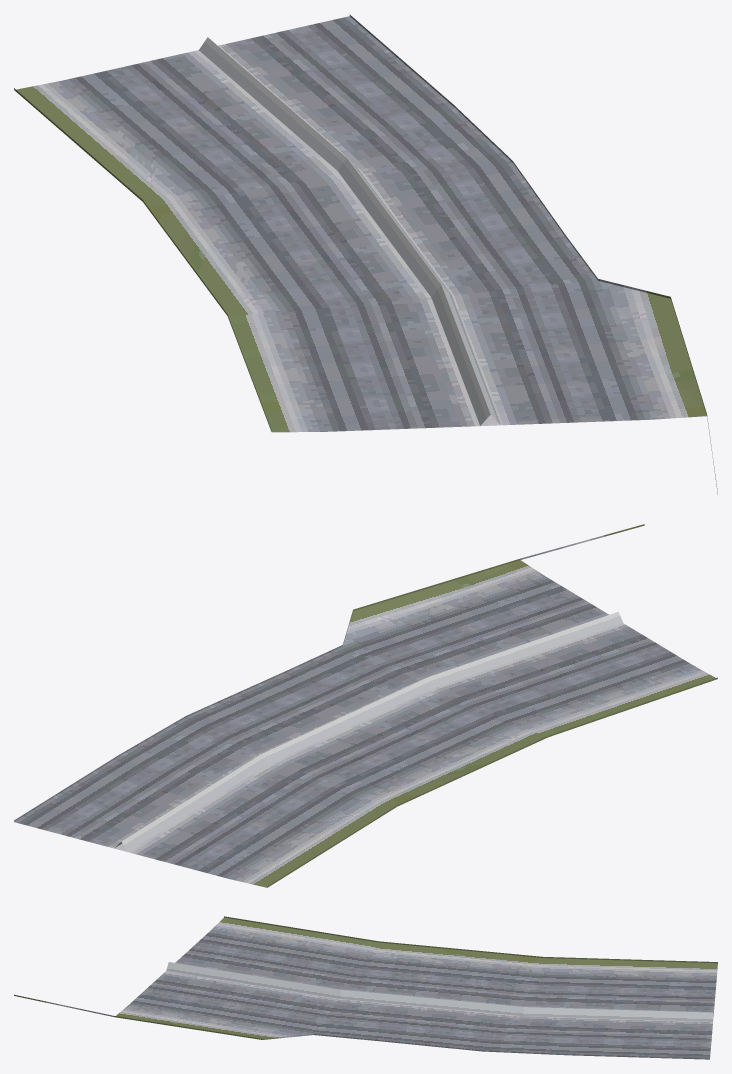
Rendered from lodsspagjun06c.obj.
The picture shows the model from 3 angles, top to bottom: view 1: azimuth 30°, elevation 25°; view 2: azimuth 150°, elevation 25°; view 3: azimuth 270°, elevation 25°; orthographic projection. The views are drawn at different scales.
Visible parts, largest first — view 1: lodSspagjun06c; view 2: lodSspagjun06c; view 3: lodSspagjun06c.
Part boxes in pixels (x1,y1,x2,y2): lodSspagjun06c: (14,14,717,494); lodSspagjun06c: (14,524,717,887); lodSspagjun06c: (14,916,717,1059).
Bounding box in the file's own units: 51.55 × 1.15 × 109.
2 materials, 2 textured.
